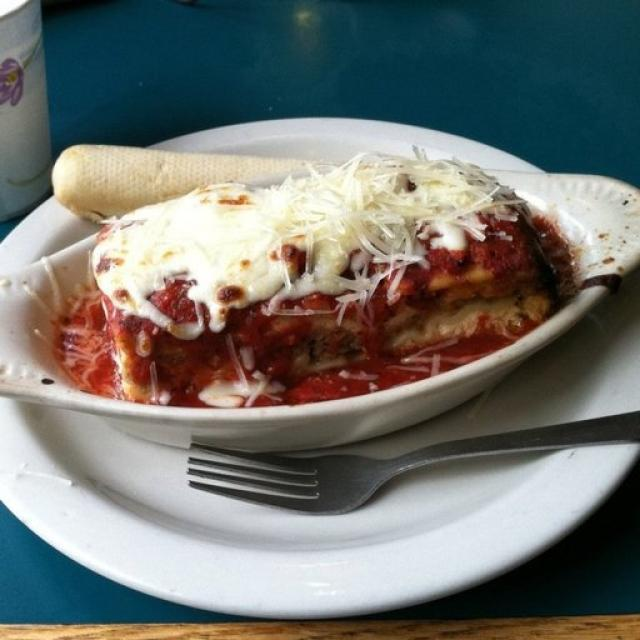Lasagna: (59, 166, 571, 408)
